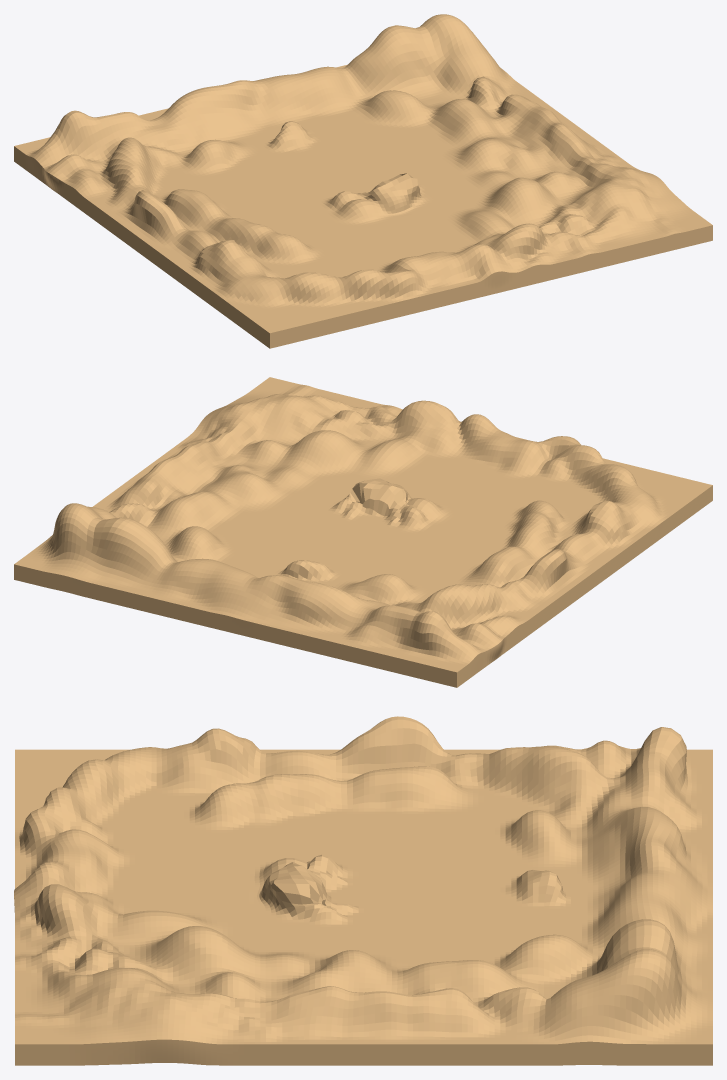
The model's file is Egypt_Desert_Ground.fbx.
The picture shows the model from 3 angles, top to bottom: view 1: azimuth 30°, elevation 25°; view 2: azimuth 150°, elevation 25°; view 3: azimuth 270°, elevation 25°; orthographic projection. The views are drawn at different scales.
Parts seen in each view (by area): view 1: desert plane; view 2: desert plane; view 3: desert plane.
Part boxes in pixels (x1,y1,x2,y2): desert plane: [14, 14, 712, 348]; desert plane: [14, 377, 712, 687]; desert plane: [14, 716, 712, 1065].
Bounding box in the file's own units: 104195 × 14295 × 102659.
